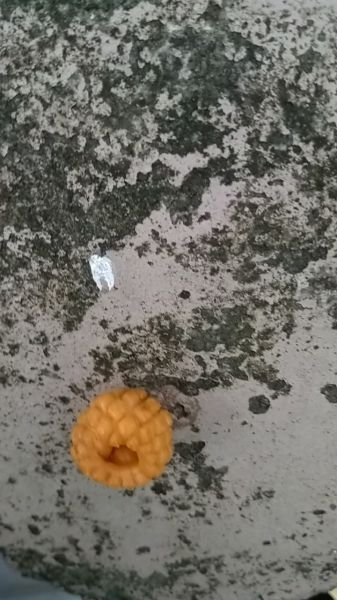eggs: (62, 381, 179, 491)
